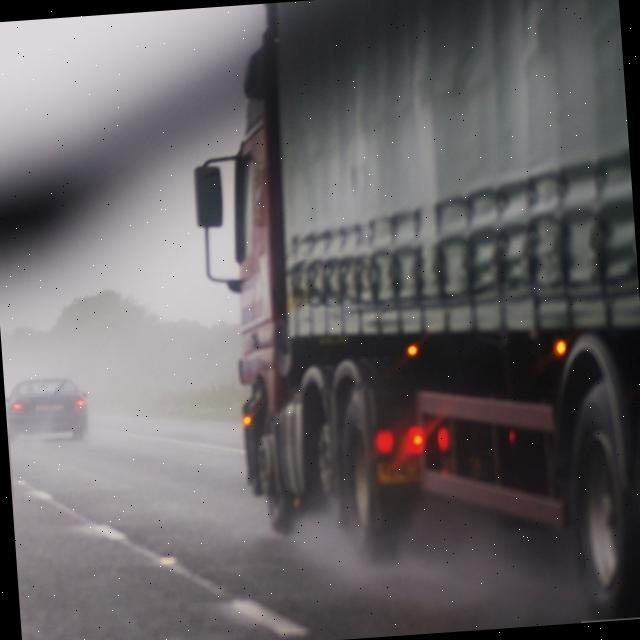bus: (197, 0, 640, 633)
car: (5, 374, 91, 444)
truck: (197, 0, 640, 633)
